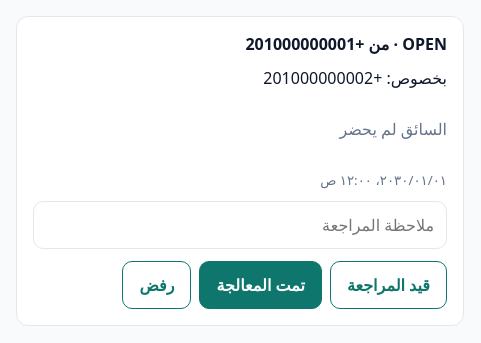
Test: AdminReports › resolves a report with a note
In the field with placeholder "ملاحظة المراجعة": (240, 225) [33, 201, 447, 249], type "تم"
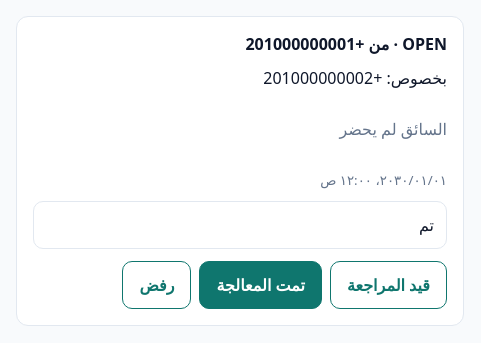
Click the button "تمت المعالجة": (261, 285) [199, 261, 322, 309]
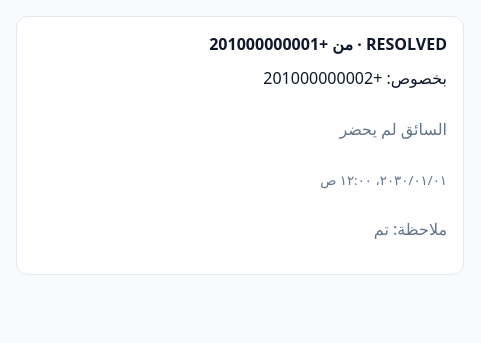
Now no buttons are shown
Now the text "RESOLVED" is shown, box [209, 33, 447, 55]
